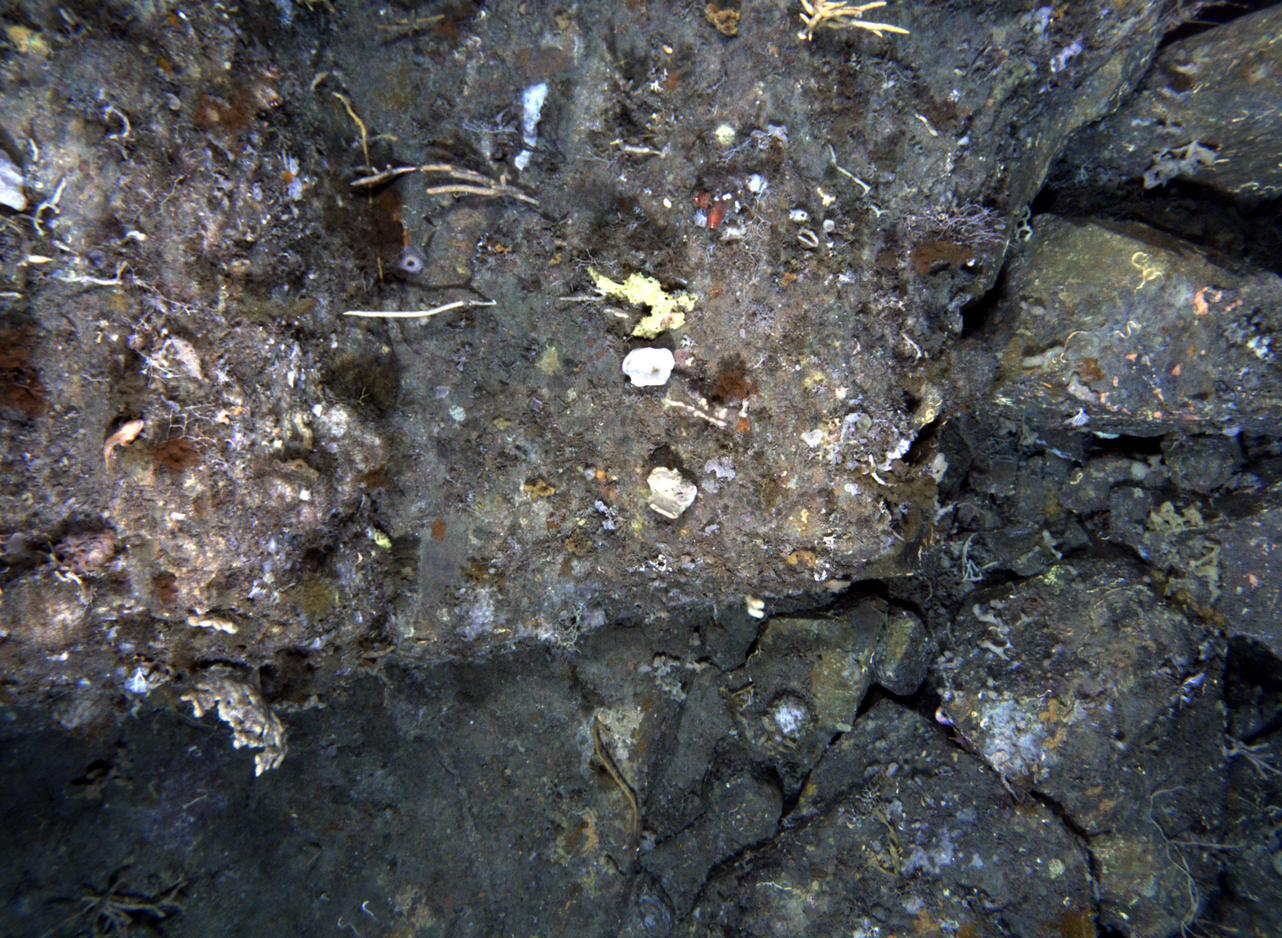Brachionichthyidae: (101, 417, 147, 474)
